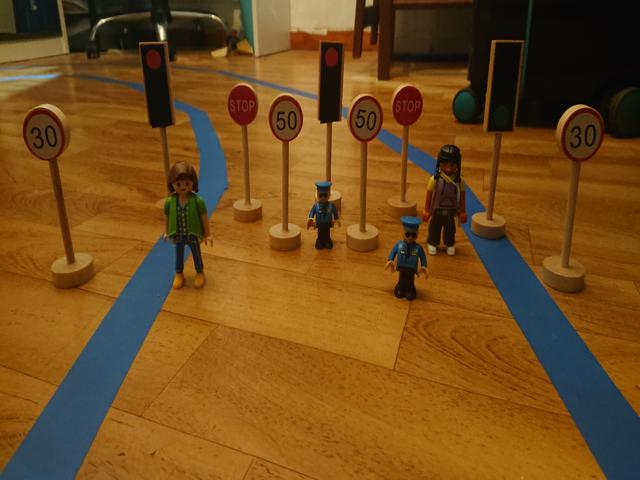30 speed sign: (21, 109, 69, 162), (558, 107, 604, 161)
50 speed sign: (267, 95, 304, 141), (347, 95, 383, 142)
green light: (491, 45, 518, 131)
person: (158, 158, 215, 292), (423, 145, 467, 260), (384, 216, 431, 301), (307, 180, 341, 251)
red light: (144, 45, 168, 122), (321, 44, 342, 116)
stop sign: (391, 85, 424, 128), (226, 83, 258, 125)
